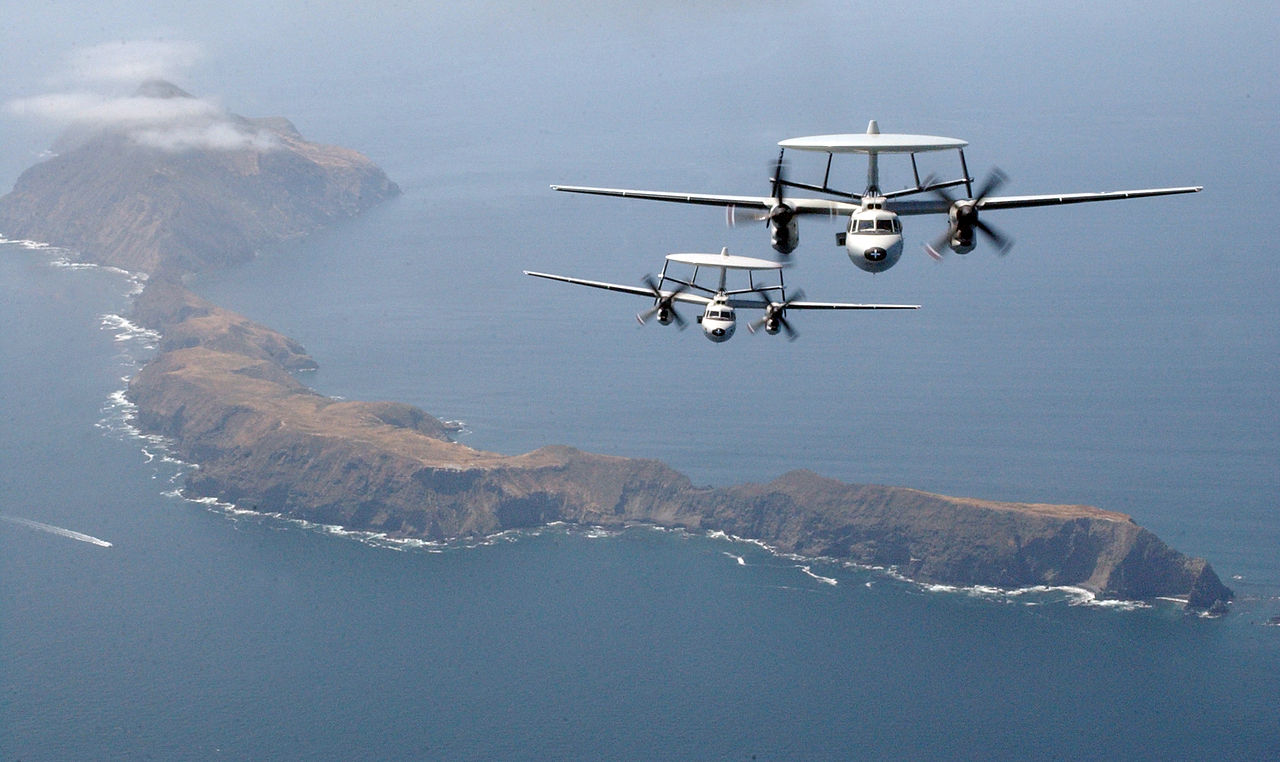E2: (547, 119, 1207, 277), (522, 245, 921, 345)
